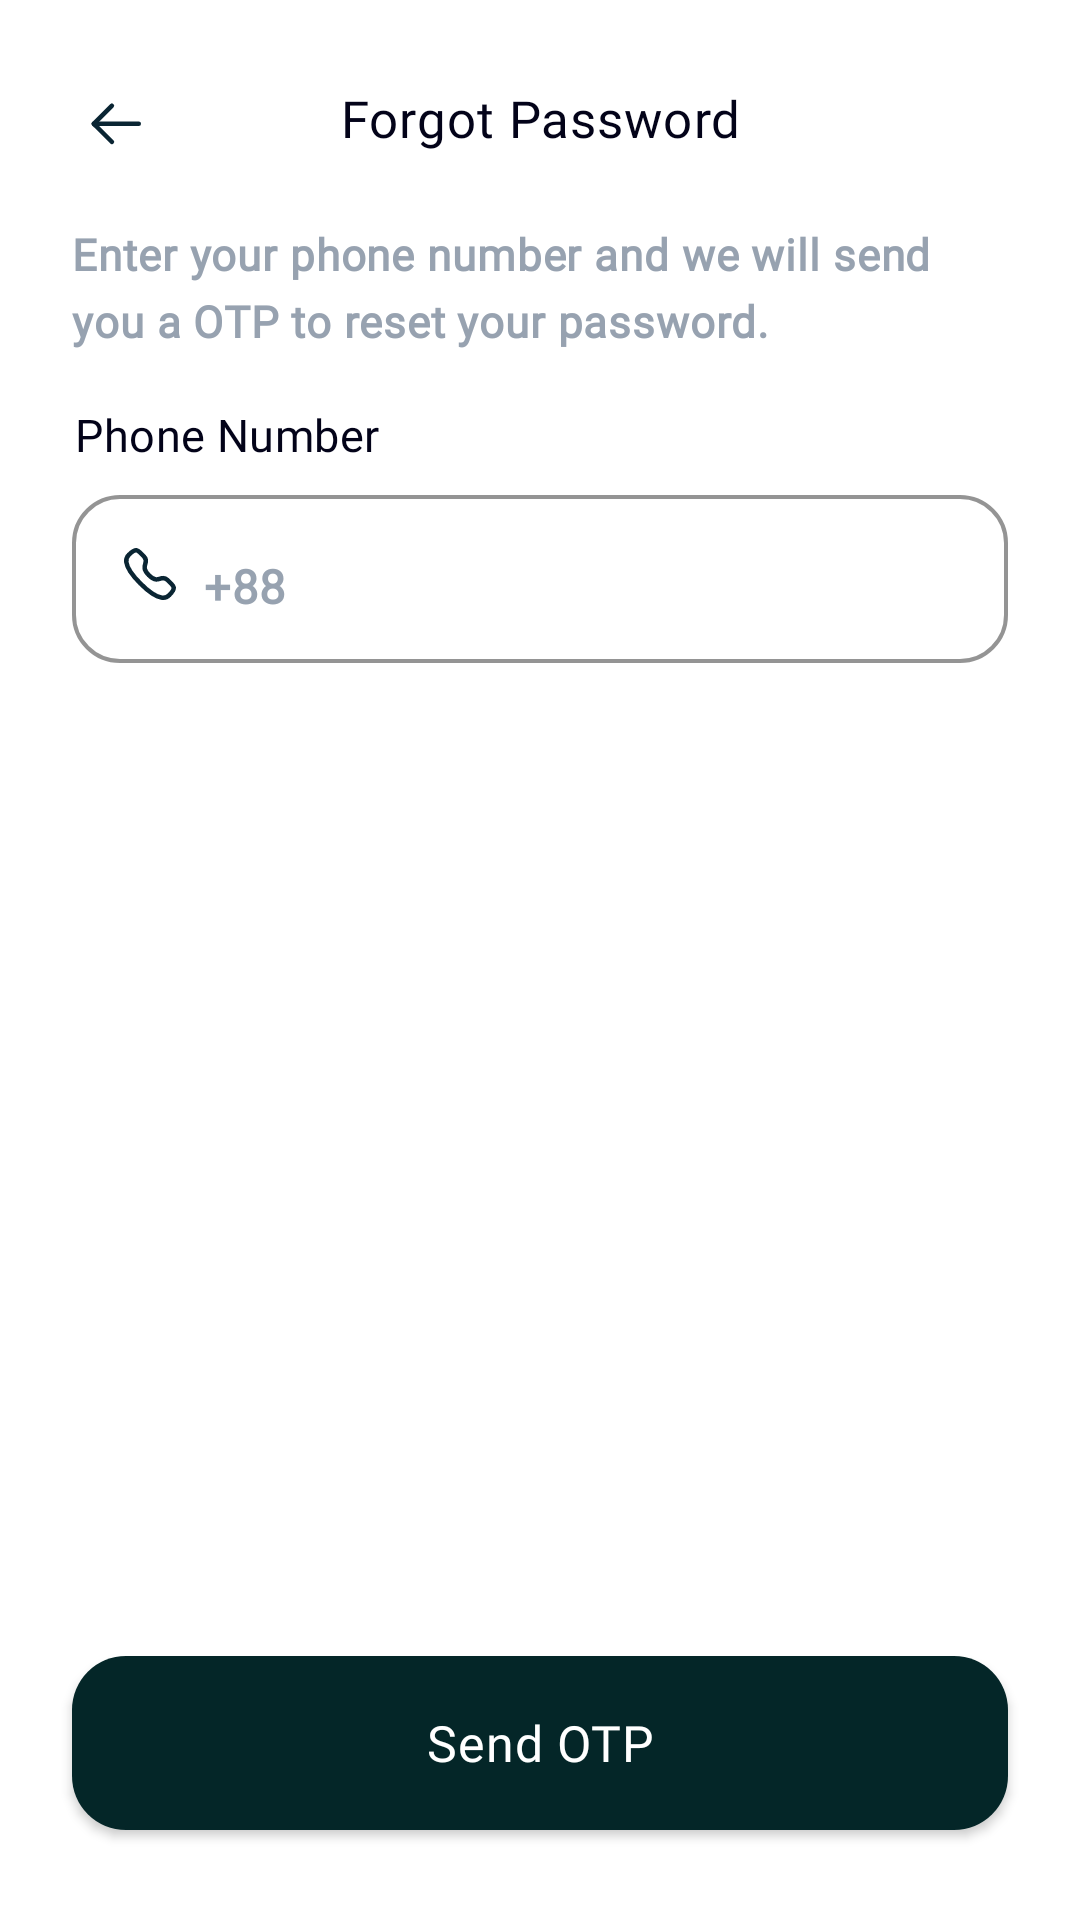

Icon bounding boxes for this 1080 × 1920 phone screenshot, format (x1=x1, y1=y1, x2=x2, y2=y2):
back: (x1=91, y1=103, x2=141, y2=145)
